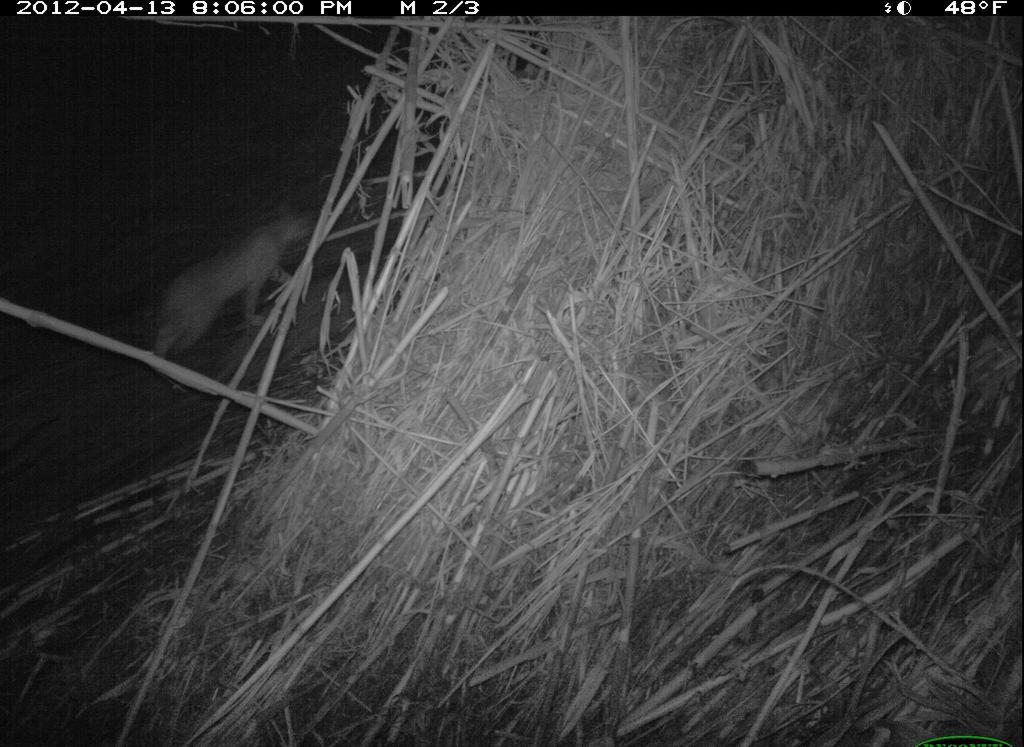bobcat: (152, 203, 326, 376)
